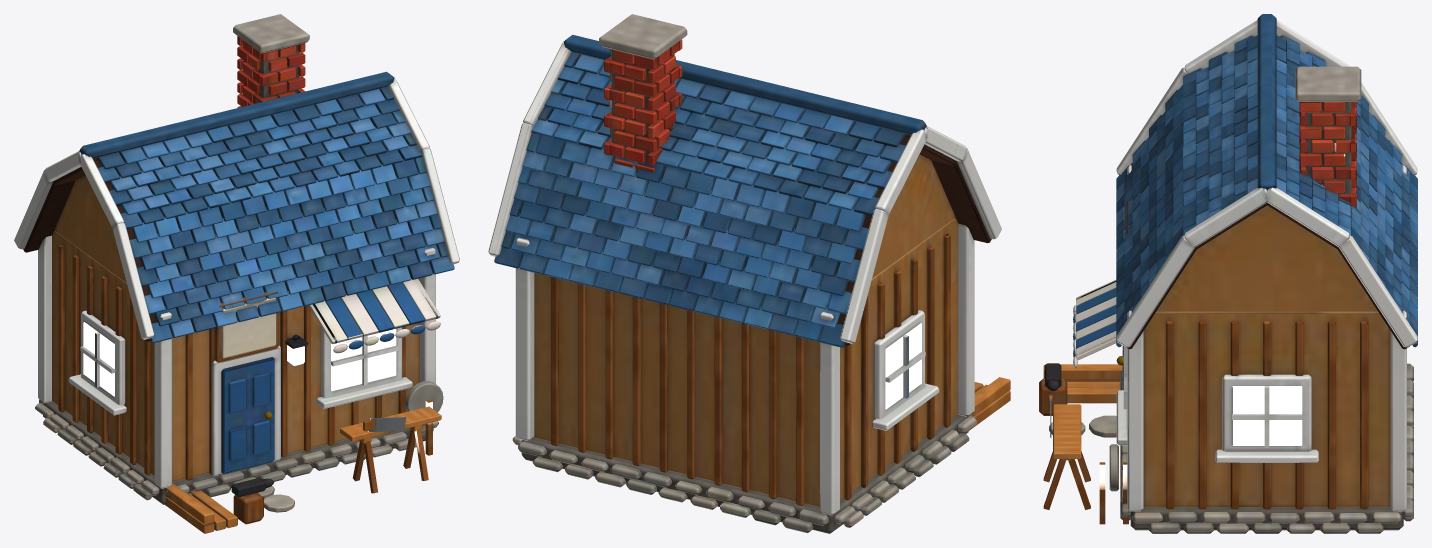
Rendered from workshop.glb.
3 views of the same model, side by side, from view 1: azimuth 30°, elevation 25°; view 2: azimuth 150°, elevation 25°; view 3: azimuth 270°, elevation 25° (orthographic). The views are drawn at different scales.
Visible parts, largest first — view 1: workshop, spinZ_stone; view 2: workshop; view 3: workshop, spinZ_stone.
Boxes of the visible parts, x1,y1,x2,y2 form: workshop: [14, 14, 459, 533]; spinZ_stone: [405, 381, 443, 412]; workshop: [488, 14, 1010, 533]; workshop: [1039, 14, 1417, 533]; spinZ_stone: [1109, 444, 1118, 491].
Size of the model in its own units: 1.74 by 1.94 by 1.61.
Materials: 1 (1 with a texture image).
